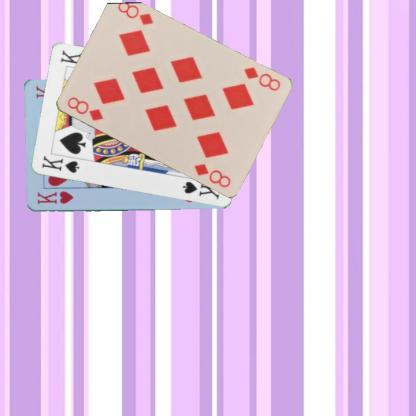8d: (64, 94, 104, 123), (241, 64, 281, 93)
Kh: (35, 189, 74, 206)
Ks: (39, 153, 80, 175)
